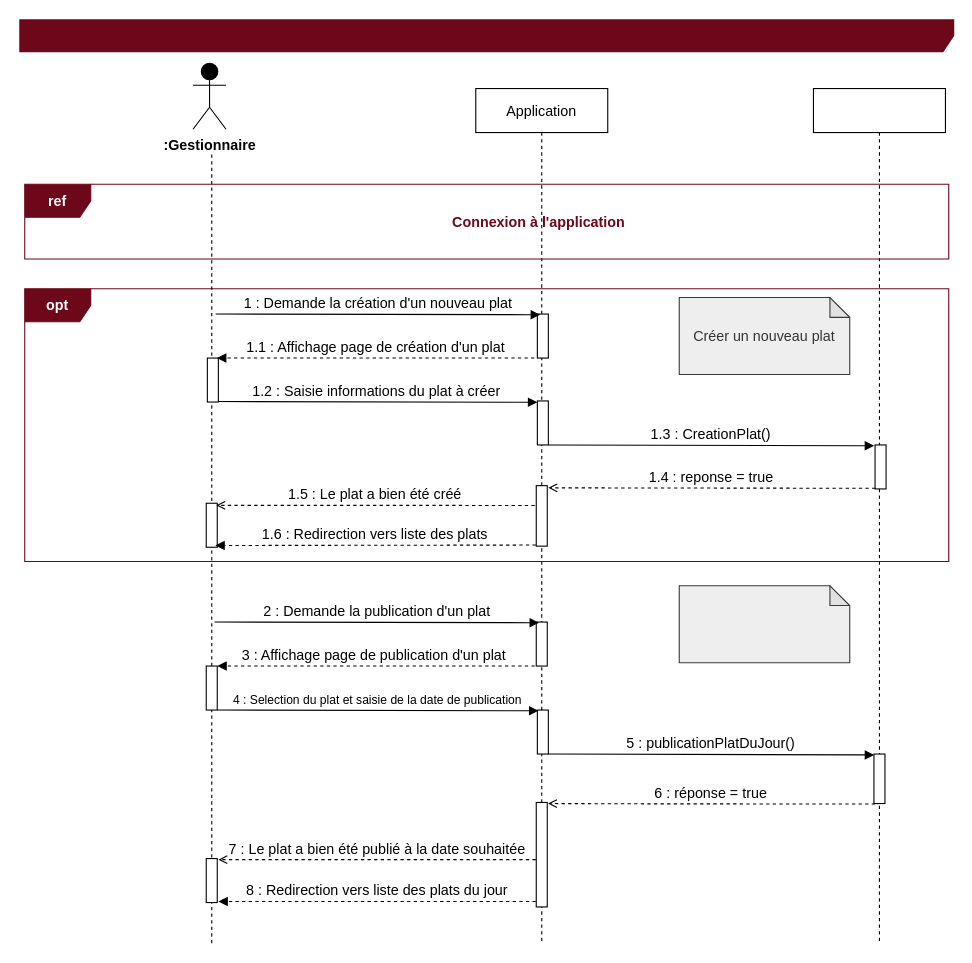
This 972x963 diagram has some shape labels left out. Each missing label, with the box of its shape:
Ajout d'un plat du jour: (19, 19, 954, 52)
Base de données: (812, 87, 945, 943)
Publier un plat existant: (678, 585, 850, 663)
